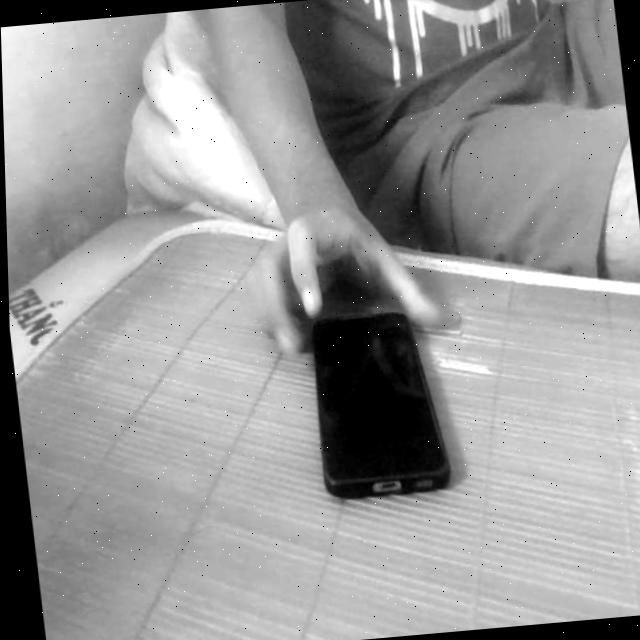phone: (281, 270, 468, 530)
